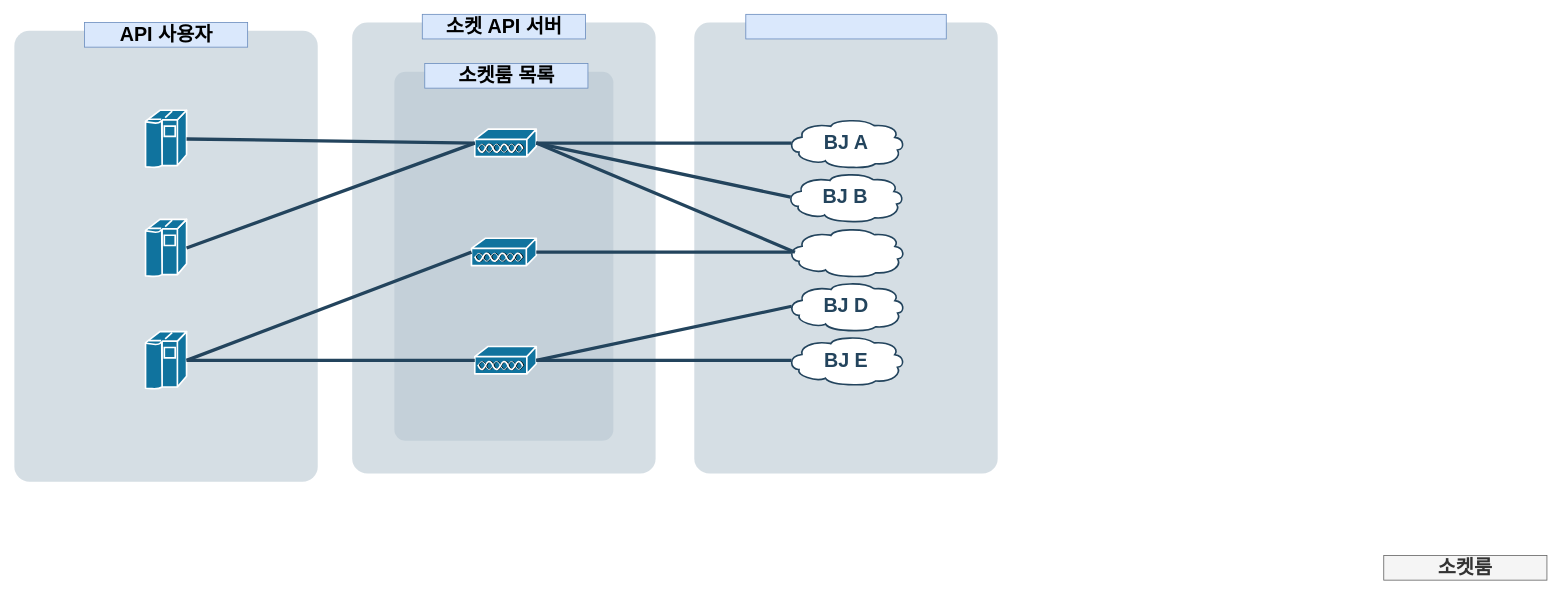
This 1561x595 diagram has some shape labels left out. Here are the shapes that lost their labels. From the top down, the centre of each, then its label:
At point 845,26: "아프리카TV 채팅서버".
At point 845,251: "BJ C".
